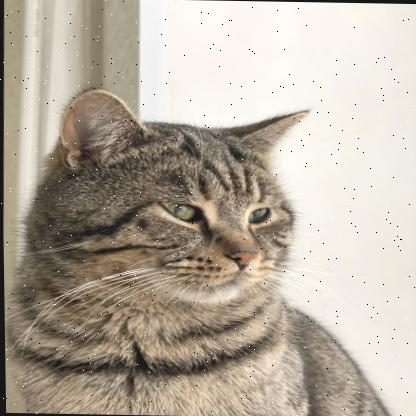cat: (23, 97, 317, 416)
